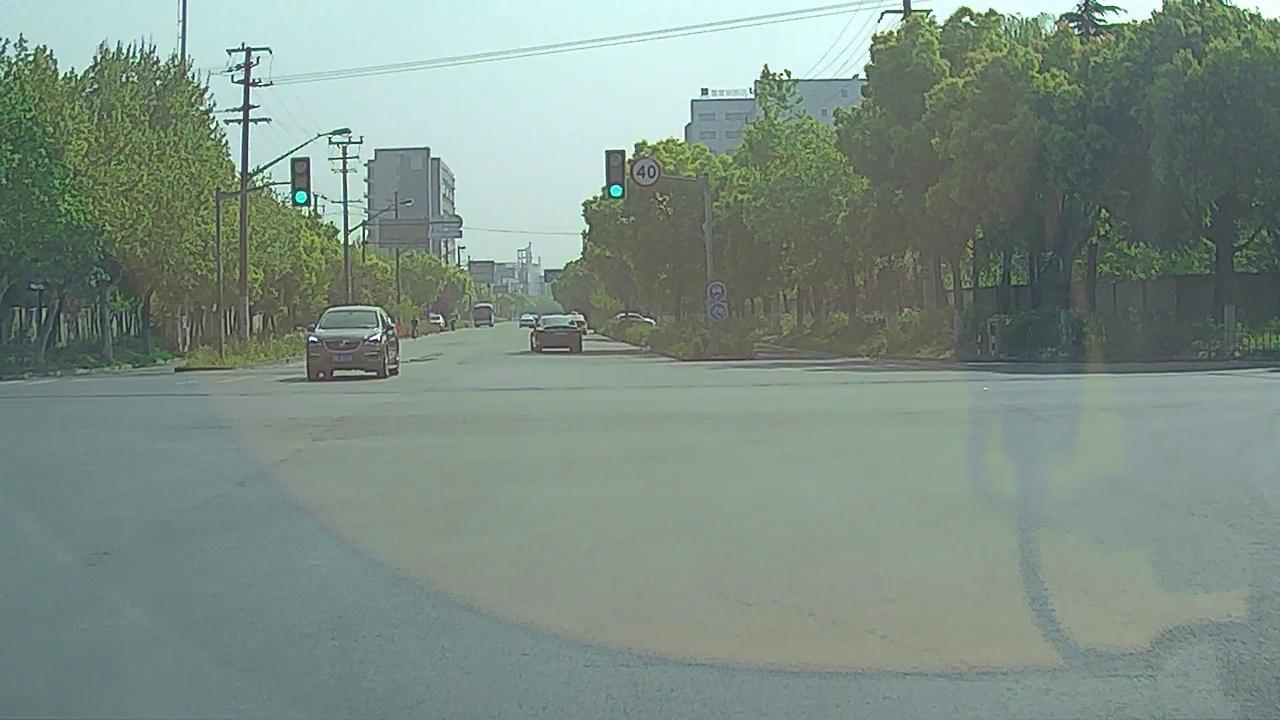traffic_light: (608, 150, 626, 198), (293, 158, 310, 206)
